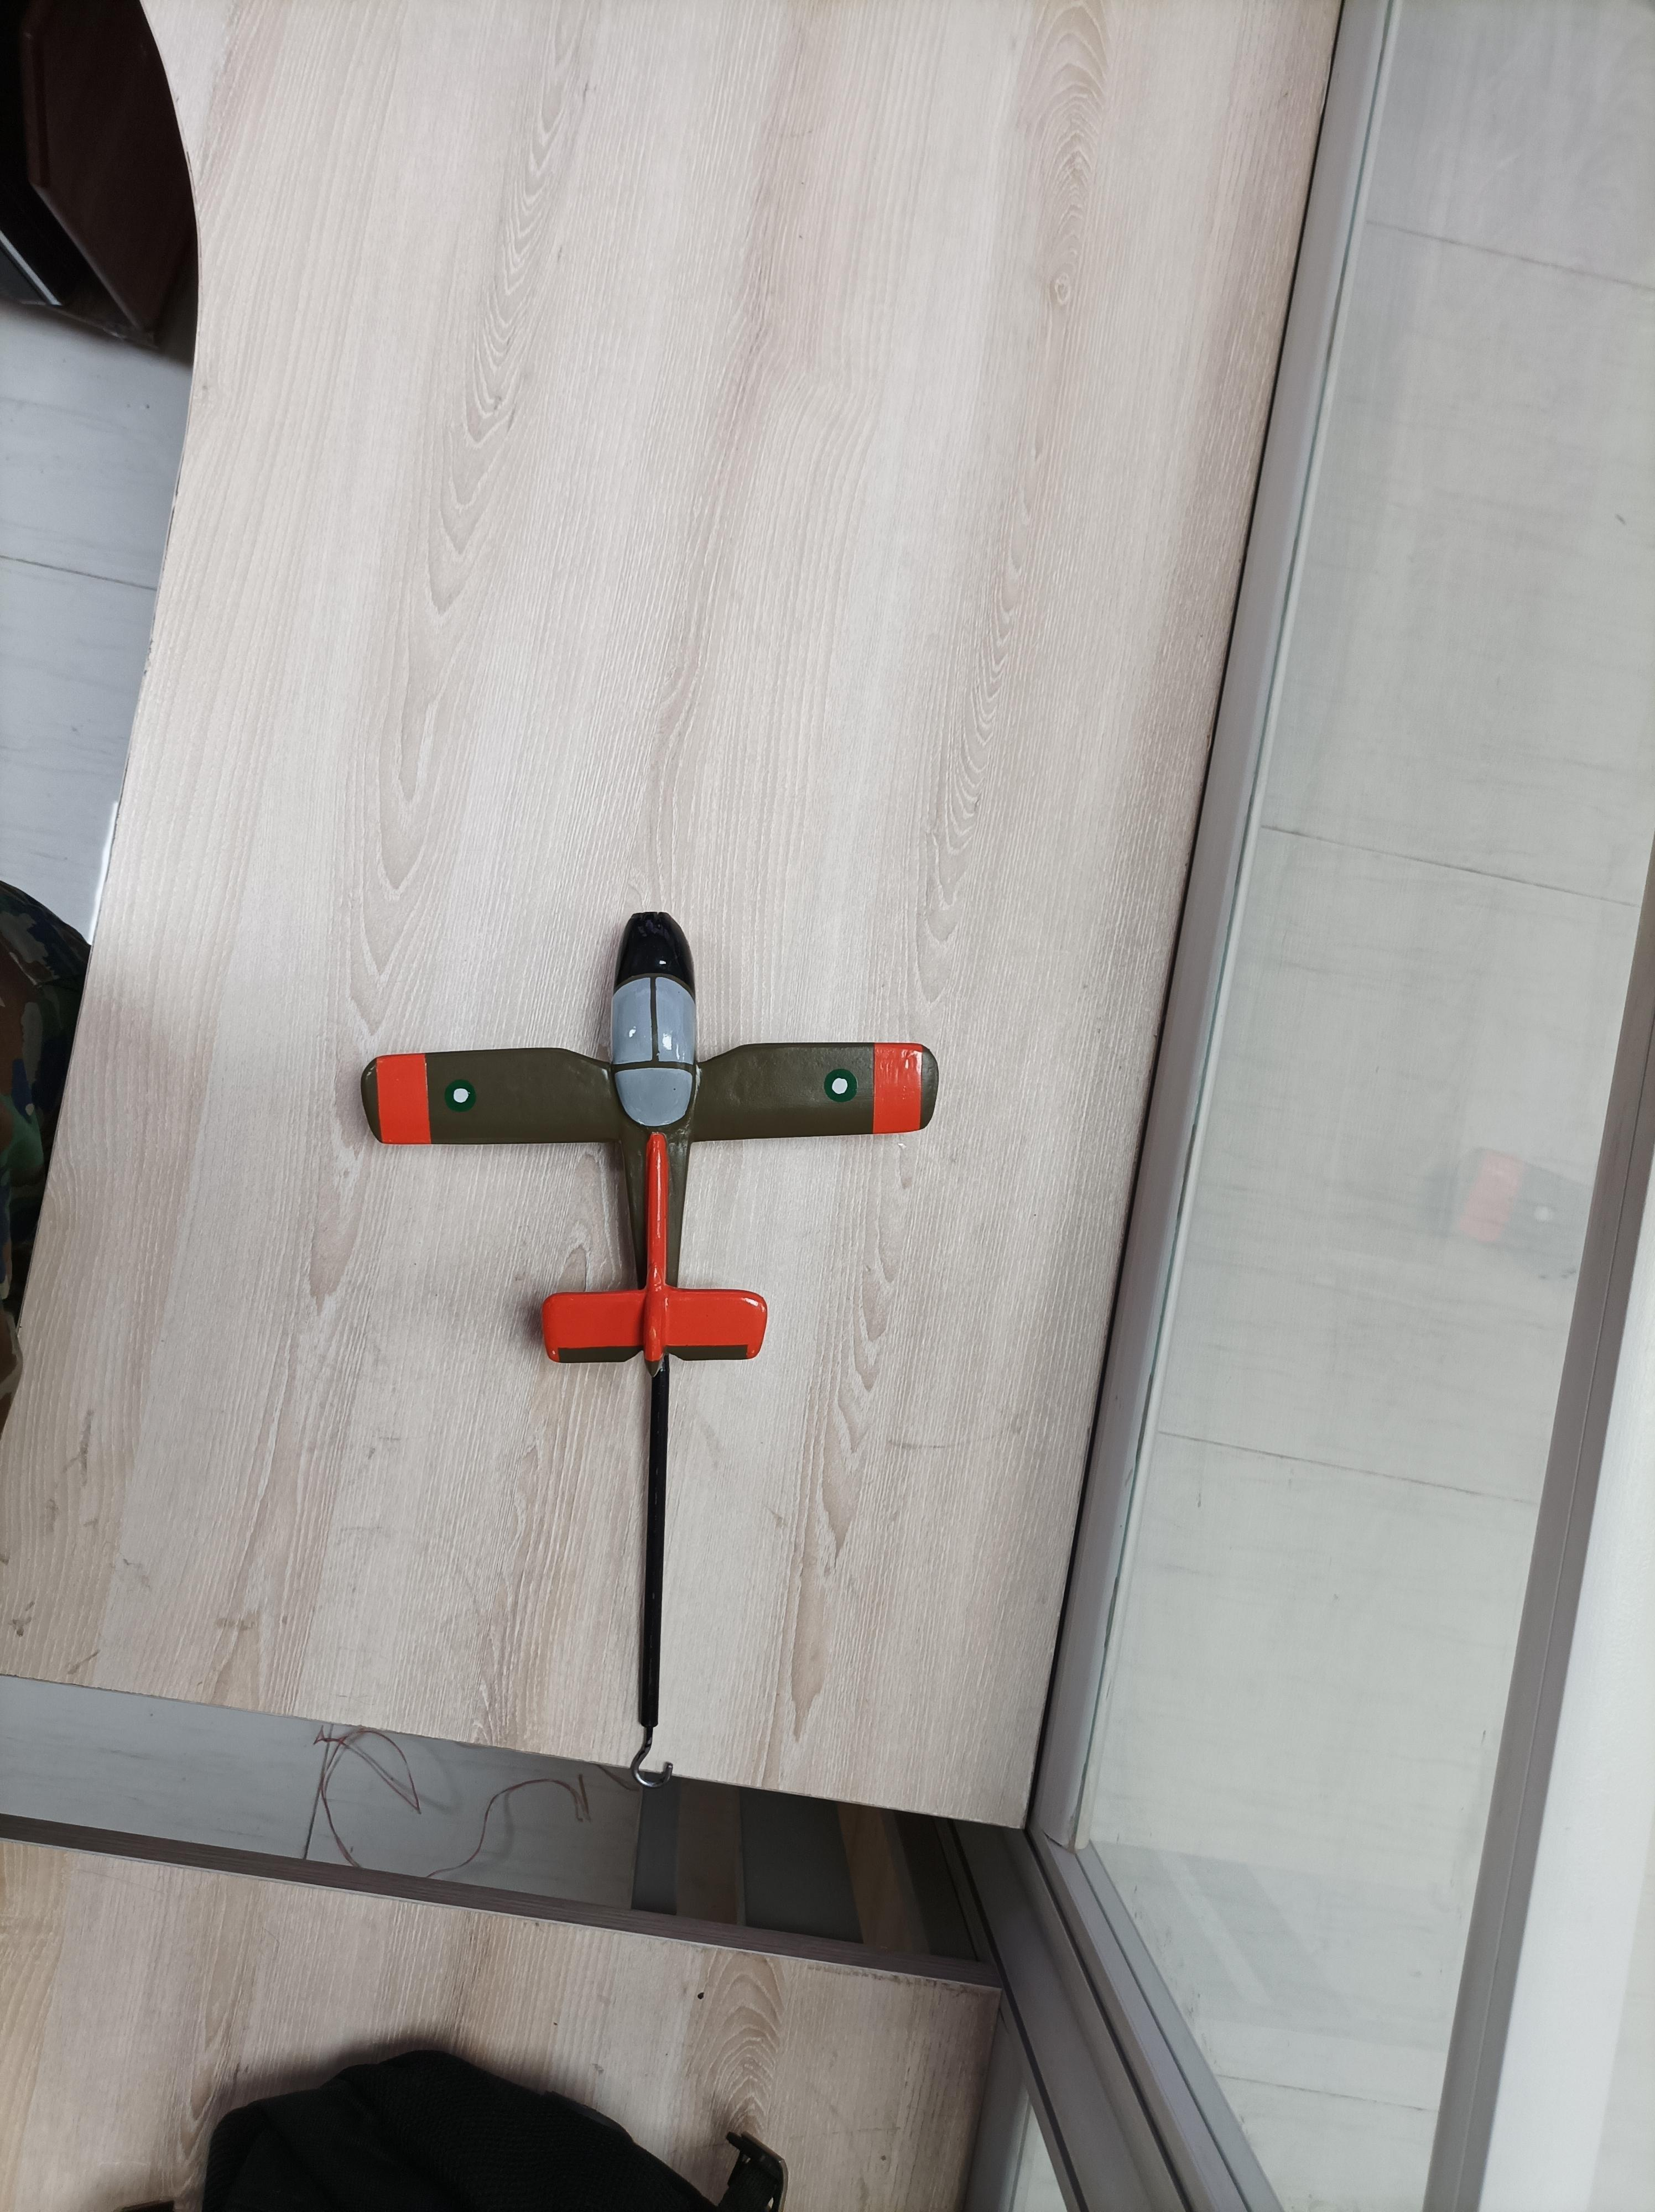Airplane: (351, 893, 960, 1376)
